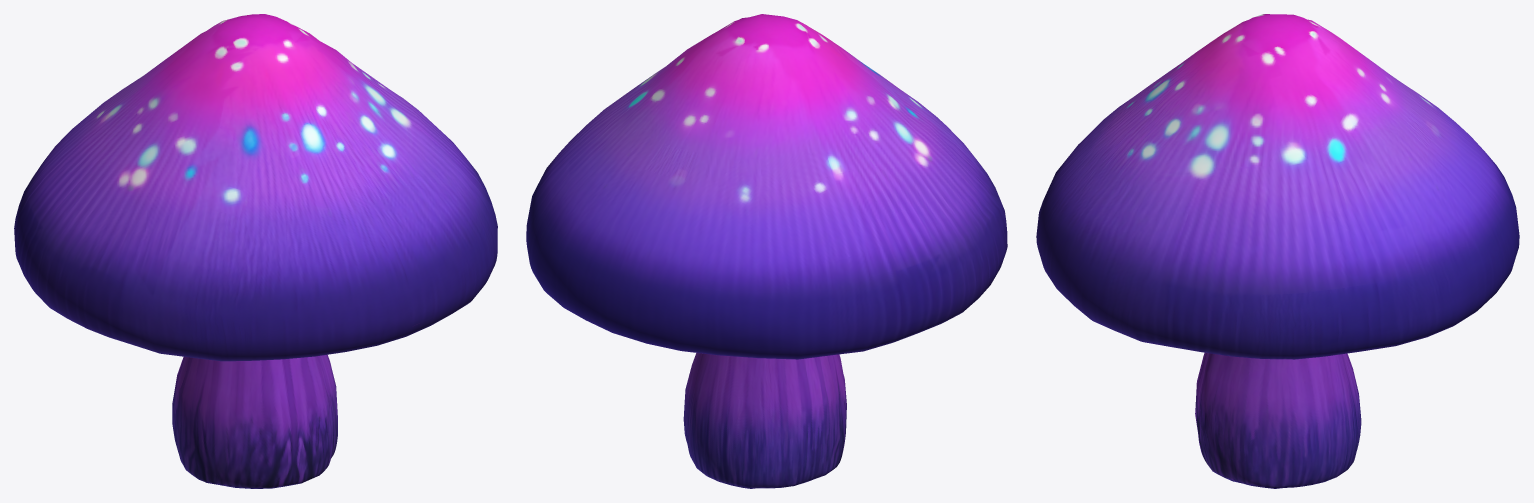
The picture shows the model from 3 angles, left to right: view 1: azimuth 30°, elevation 25°; view 2: azimuth 150°, elevation 25°; view 3: azimuth 270°, elevation 25°; orthographic projection.
Parts seen in each view (by area): view 1: Mesh_0; view 2: Mesh_0; view 3: Mesh_0.
Boxes of the visible parts, x1,y1,x2,y2 form: Mesh_0: [14, 14, 497, 488]; Mesh_0: [526, 14, 1007, 488]; Mesh_0: [1036, 14, 1519, 488].
Size of the model in its own units: 191 by 191 by 191.
1 material, 1 textured.
